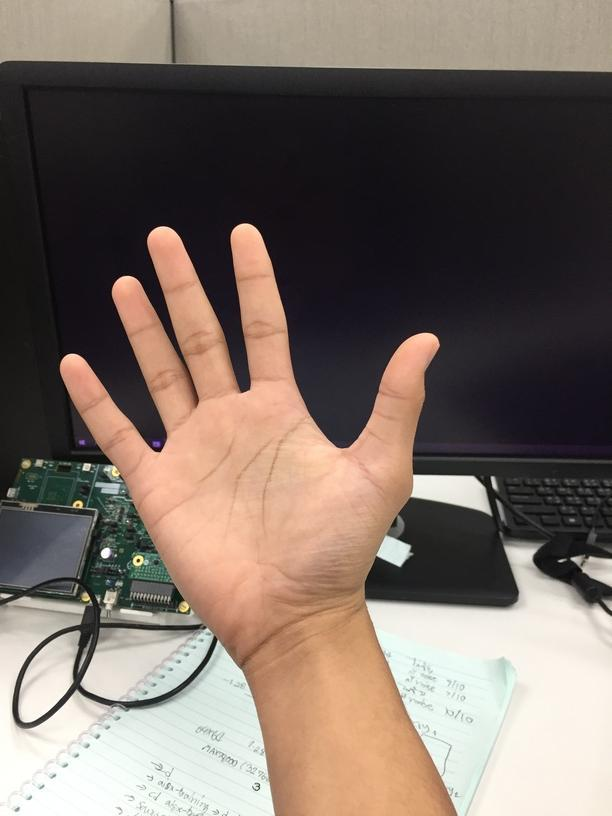hand: (59, 219, 441, 625)
